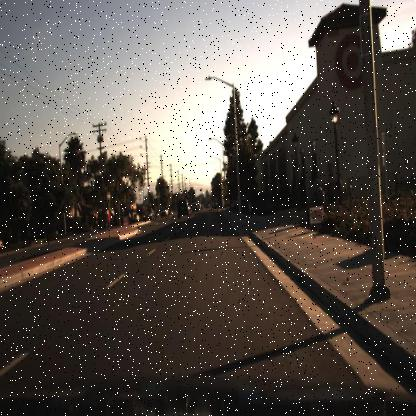car: (175, 197, 191, 218), (140, 204, 155, 223), (160, 204, 170, 218)
